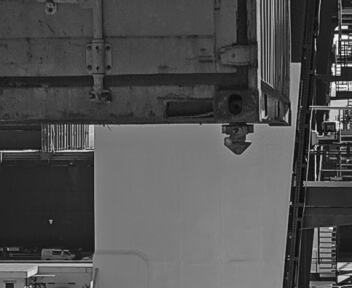twist_lock_2: (266, 118, 299, 147)
